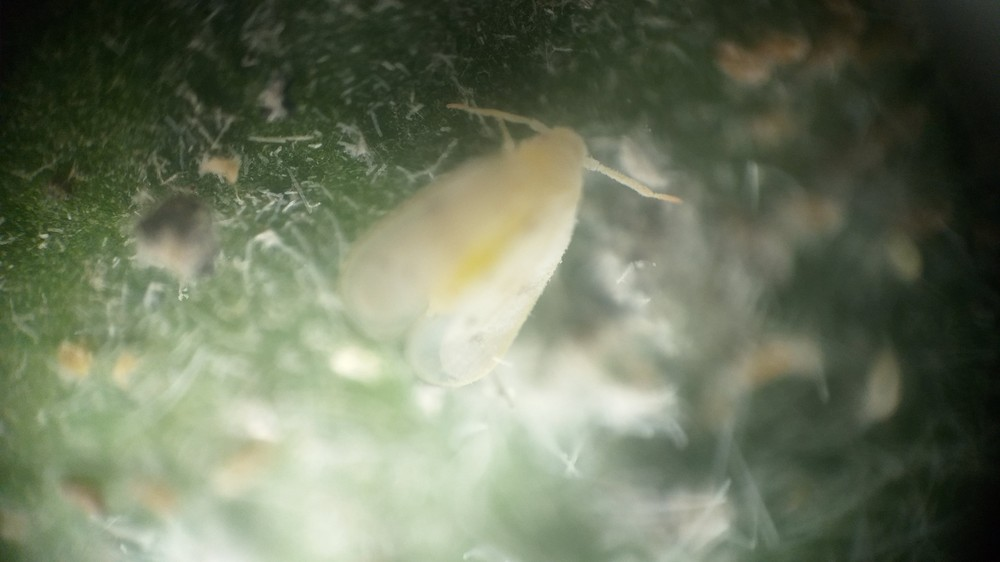Mosca Blanca: (324, 90, 702, 417)
